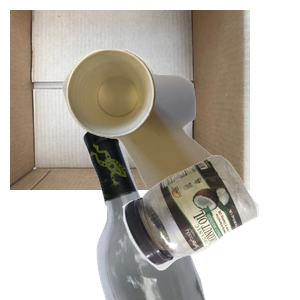cardboard: (10, 10, 250, 190)
glass: (81, 120, 300, 300)
plastic: (120, 152, 300, 300)
trash: (60, 47, 300, 227)
